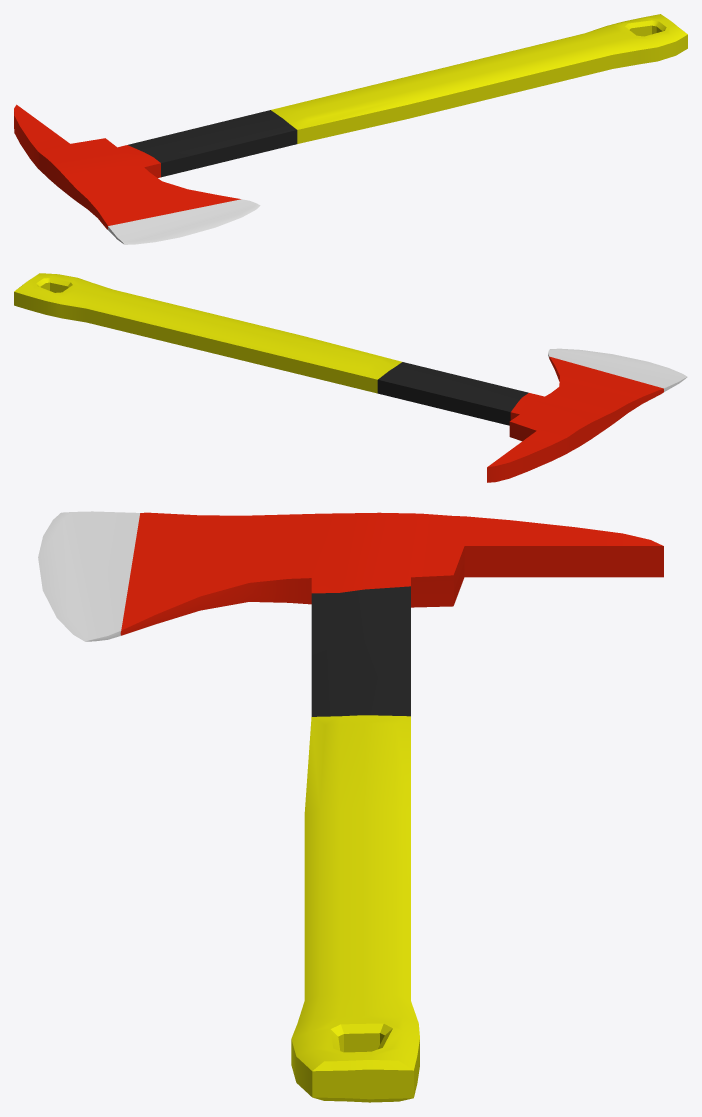
Rendered from axeExport-11.fbx.
The picture shows the model from 3 angles, top to bottom: view 1: azimuth 30°, elevation 25°; view 2: azimuth 150°, elevation 25°; view 3: azimuth 270°, elevation 25°; orthographic projection. The views are drawn at different scales.
Parts seen in each view (by area): view 1: Plane.013; view 2: Plane.013; view 3: Plane.013.
Part boxes in pixels (<box>): Plane.013: <box>14,14,687,244</box>; Plane.013: <box>14,273,687,482</box>; Plane.013: <box>38,511,663,1102</box>.
Size of the model in its own units: 1630 by 56.74 by 754.
